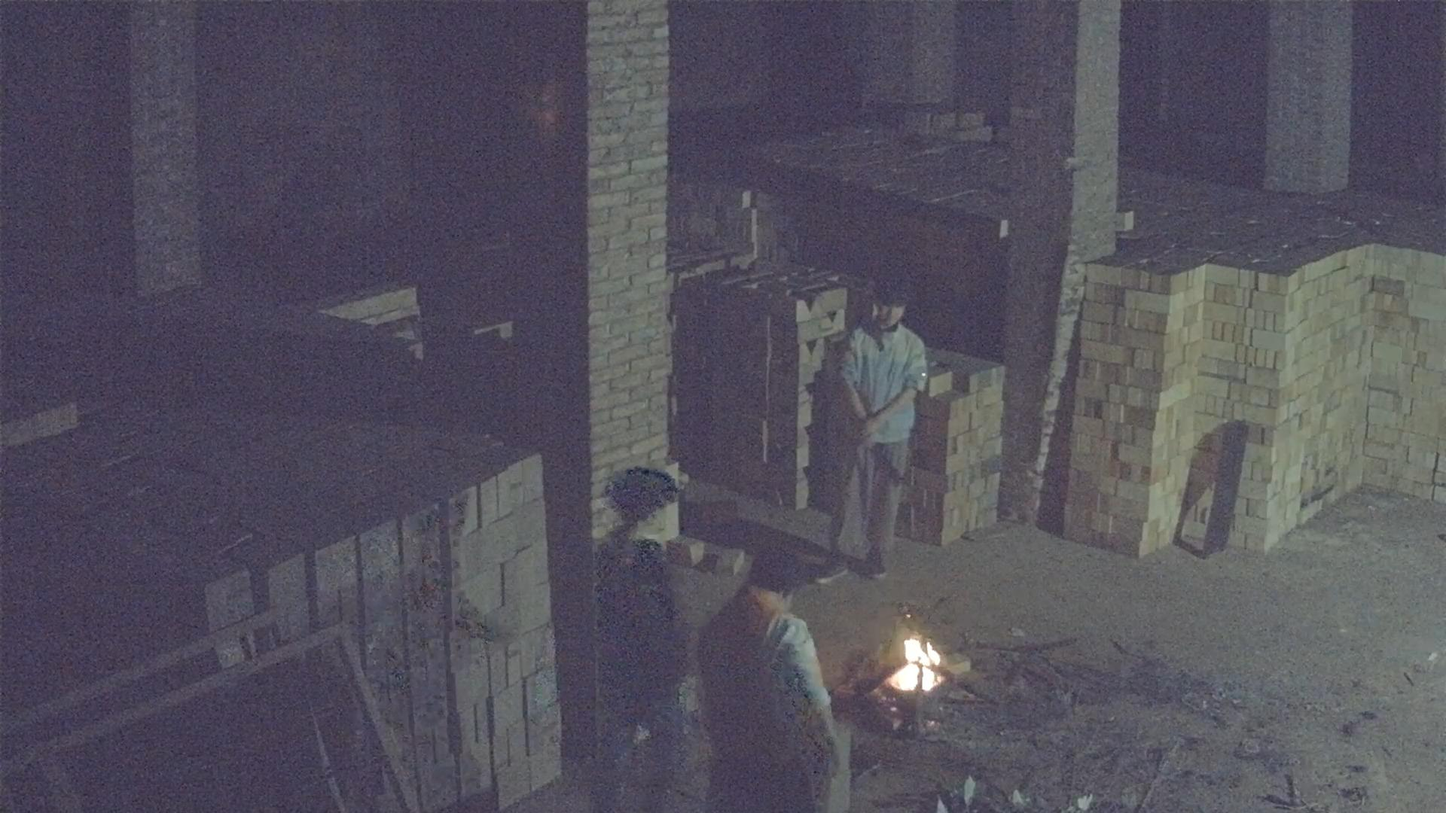fire: (881, 635, 945, 695)
